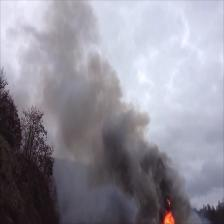fire: (163, 212, 175, 224)
smoke: (29, 10, 96, 86), (72, 105, 139, 149), (128, 157, 181, 203)
